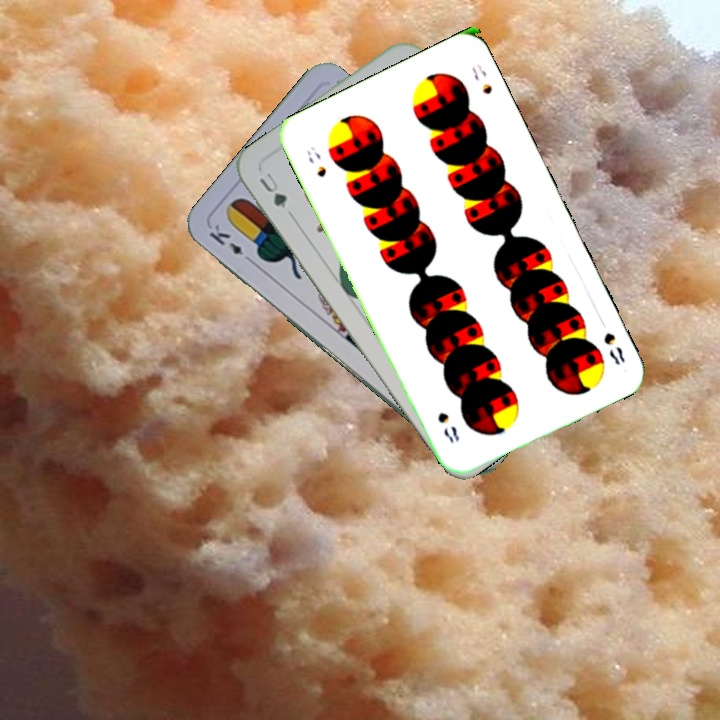EK: (205, 220, 257, 267)
GU: (255, 168, 290, 211)
S8: (599, 328, 628, 368), (302, 142, 329, 180)
